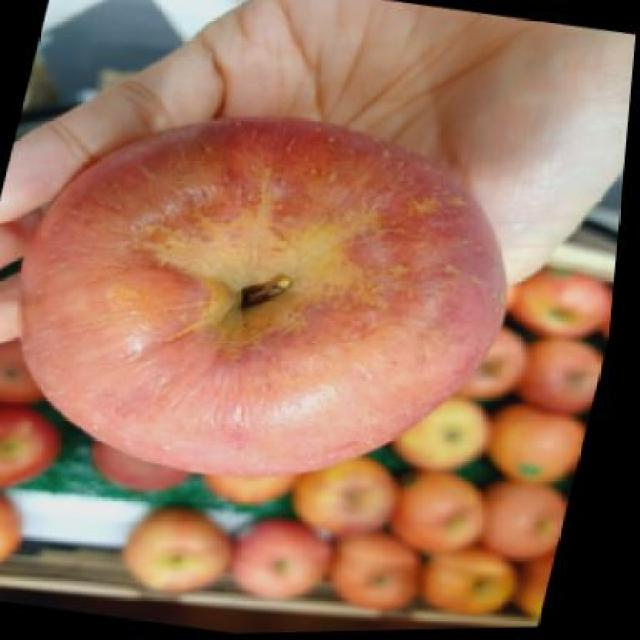Fresh Apple: (37, 130, 486, 464)
